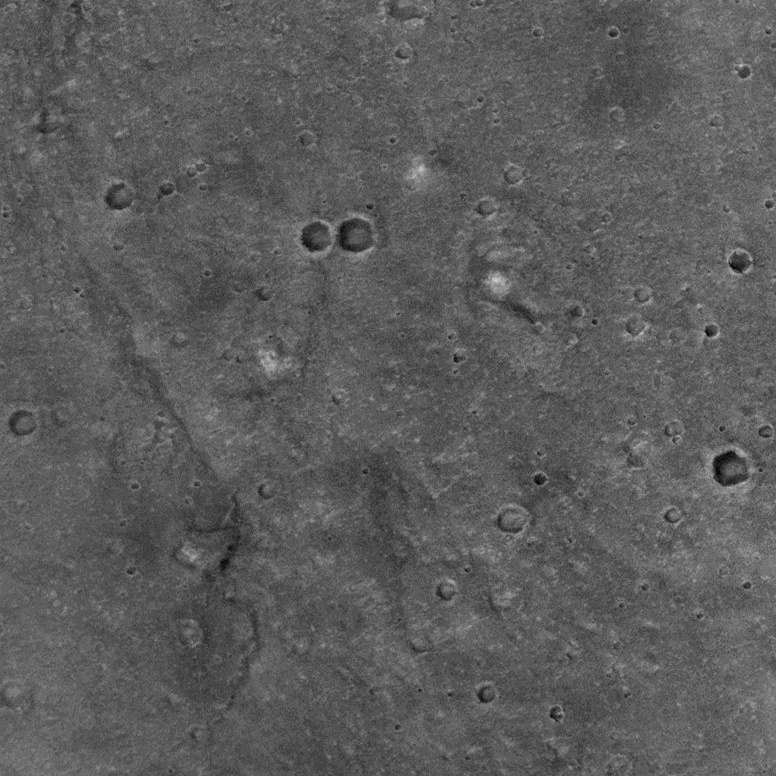dust_devil: (417, 157, 451, 173)
